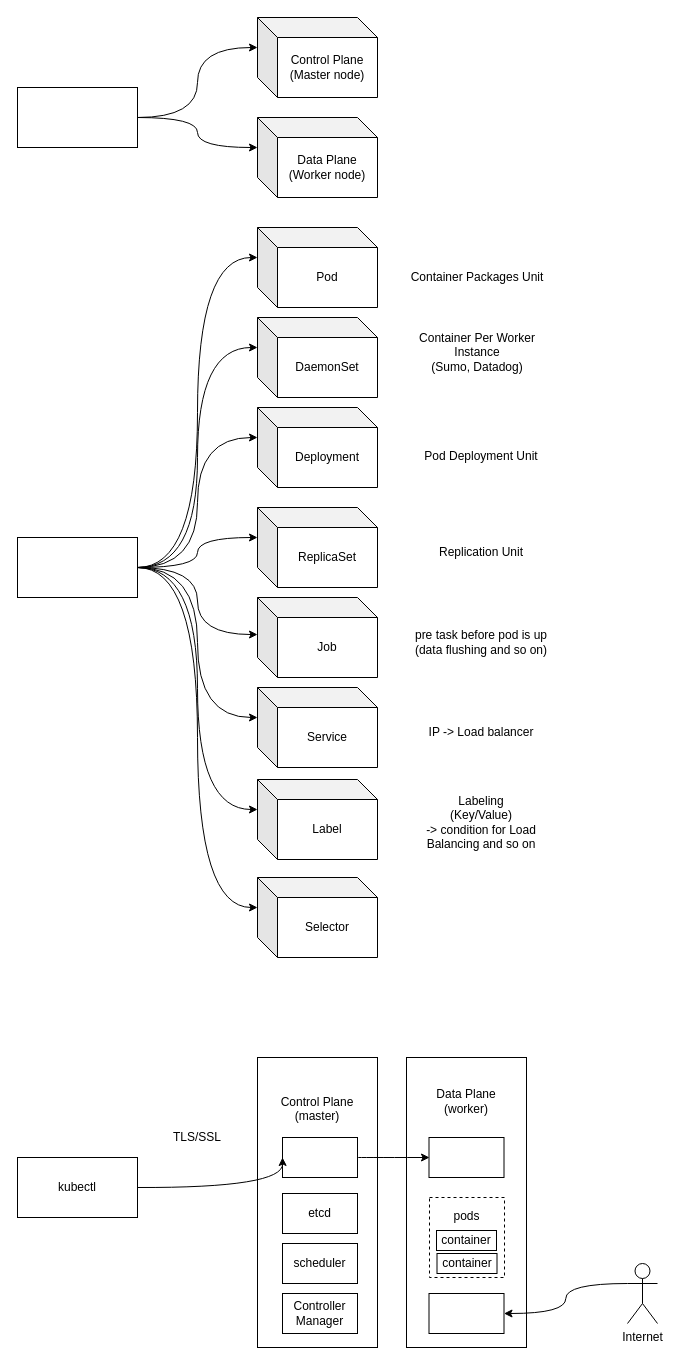
The diagram is 680 pixels wide and 1365 high, and some of its shapes have lost their labels. Each missing label, with the centre of its shape:
API Server: pixel 320 1157
K8S Object: pixel 77 567
kube-proxy: pixel 466 1313
kubelet: pixel 466 1157
Kubernetes Cluster: pixel 77 117
